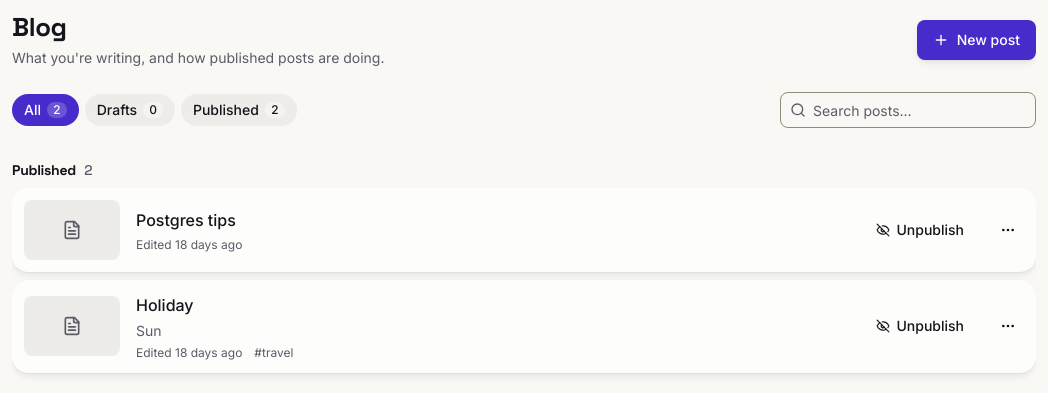
Test: BlogAdminPage › searches titles, summaries and tags
This screenshot has width=1048, height=393.
Type "travel" into the field labelled "Search posts".
click(908, 110); type("travel")  # box [780, 92, 1036, 128]
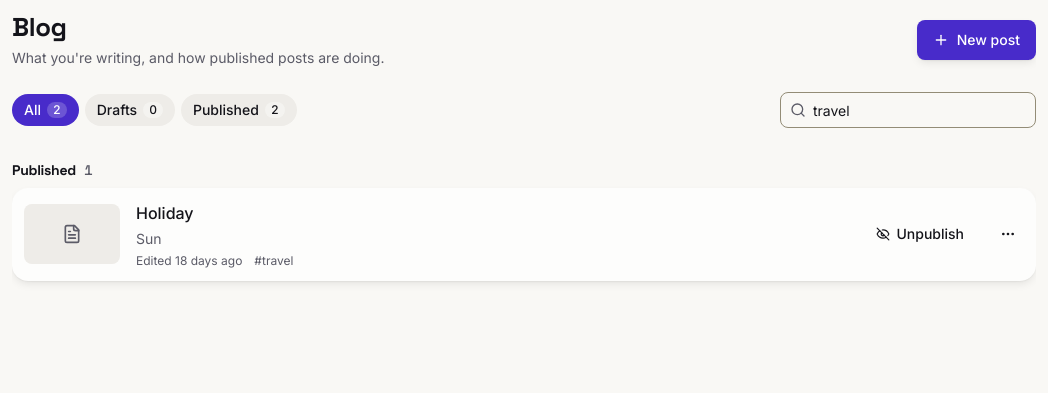
expect the text "Holiday" is shown: met, box [136, 203, 194, 223]
expect the button "Postgres tips" is gone: met
